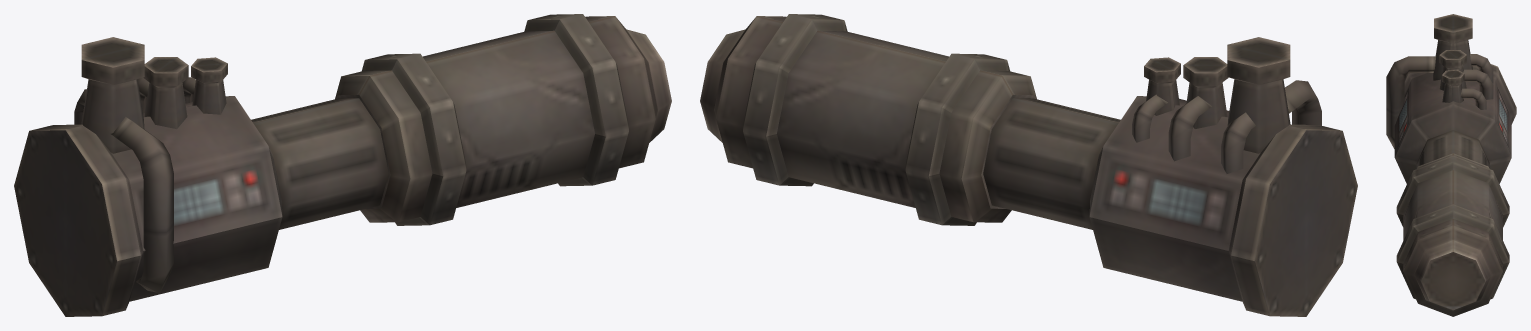
File: central_machine.FBX
3 views of the same model, side by side, from view 1: azimuth 30°, elevation 25°; view 2: azimuth 150°, elevation 25°; view 3: azimuth 270°, elevation 25° (orthographic). The views are drawn at different scales.
Parts seen in each view (by area): view 1: Object007; view 2: Object007; view 3: Object007.
Boxes of the visible parts, x1,y1,x2,y2 form: Object007: (14, 14, 671, 316); Object007: (700, 14, 1357, 316); Object007: (1386, 14, 1516, 316).
Size of the model in its own units: 45.4 by 18.92 by 14.35.
